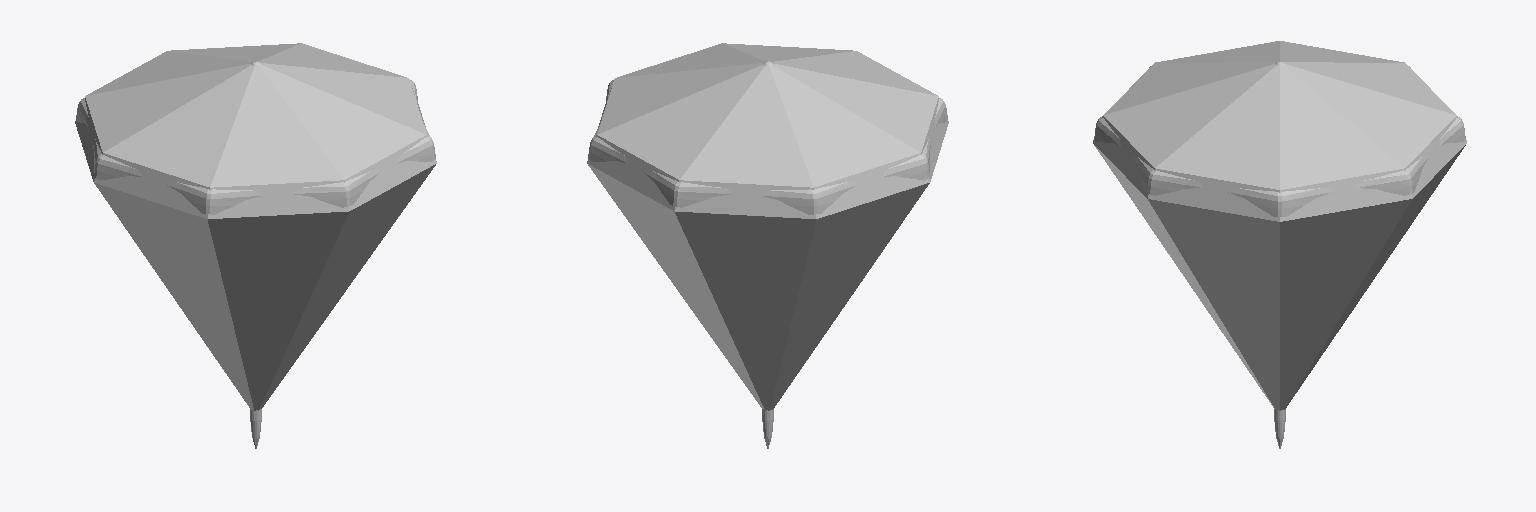
The model's file is umbrella_collision.obj.
3 views of the same model, side by side, from view 1: azimuth 30°, elevation 25°; view 2: azimuth 150°, elevation 25°; view 3: azimuth 270°, elevation 25° (orthographic).
Visible parts, largest first — view 1: Cylinder.001, Cylinder; view 2: Cylinder.001, Cylinder; view 3: Cylinder.001, Cylinder.
Part boxes in pixels (x1,y1,x2,y2): Cylinder.001: (75, 43, 436, 410); Cylinder: (76, 61, 435, 448); Cylinder.001: (587, 43, 948, 410); Cylinder: (588, 61, 947, 448); Cylinder.001: (1093, 41, 1466, 410); Cylinder: (1094, 61, 1465, 448).
Bounding box in the file's own units: 1.46 × 1.67 × 1.46.